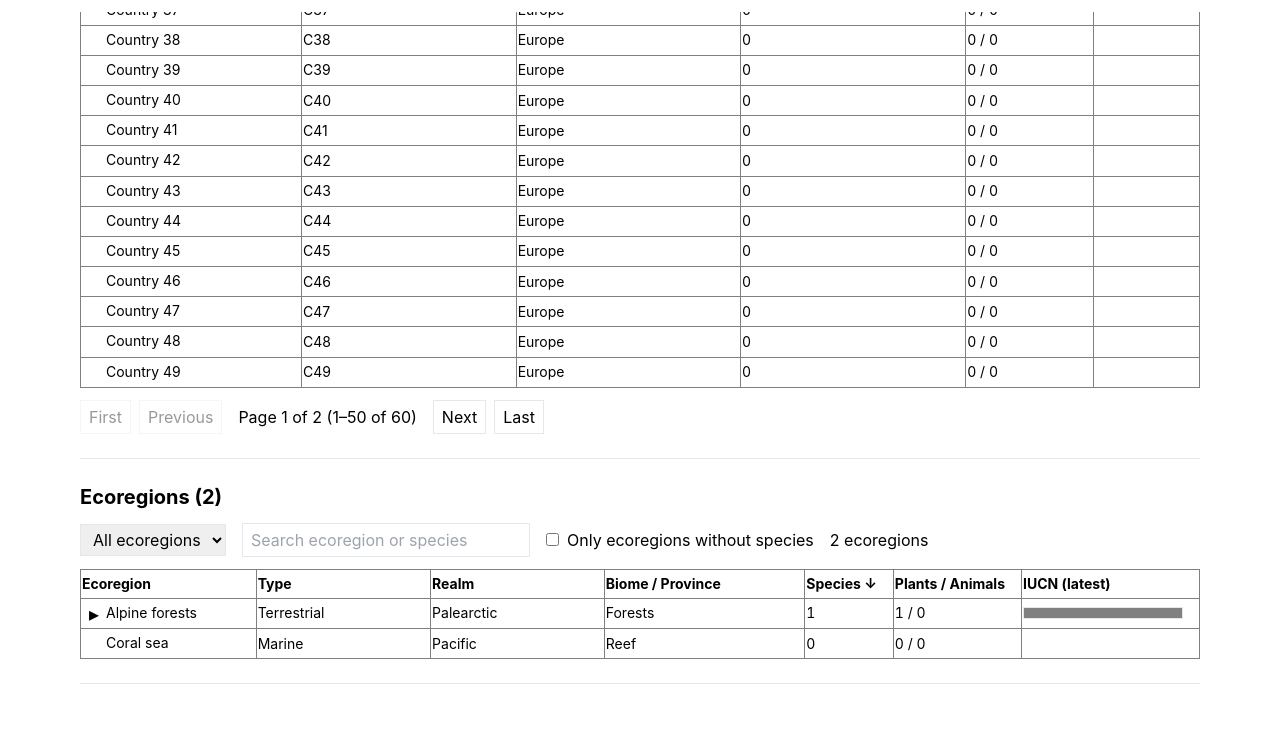
Test: long statistics lists are paginated
The image size is (1280, 732).
(page scrolled)
Expected: the text "Country 55" is not shown
Expected: the text "Page 1 of 2 (1–50 of 60)" is shown, [230,405,425,429]
Click the button "Next" at (460, 417), box [433,400,486,434]
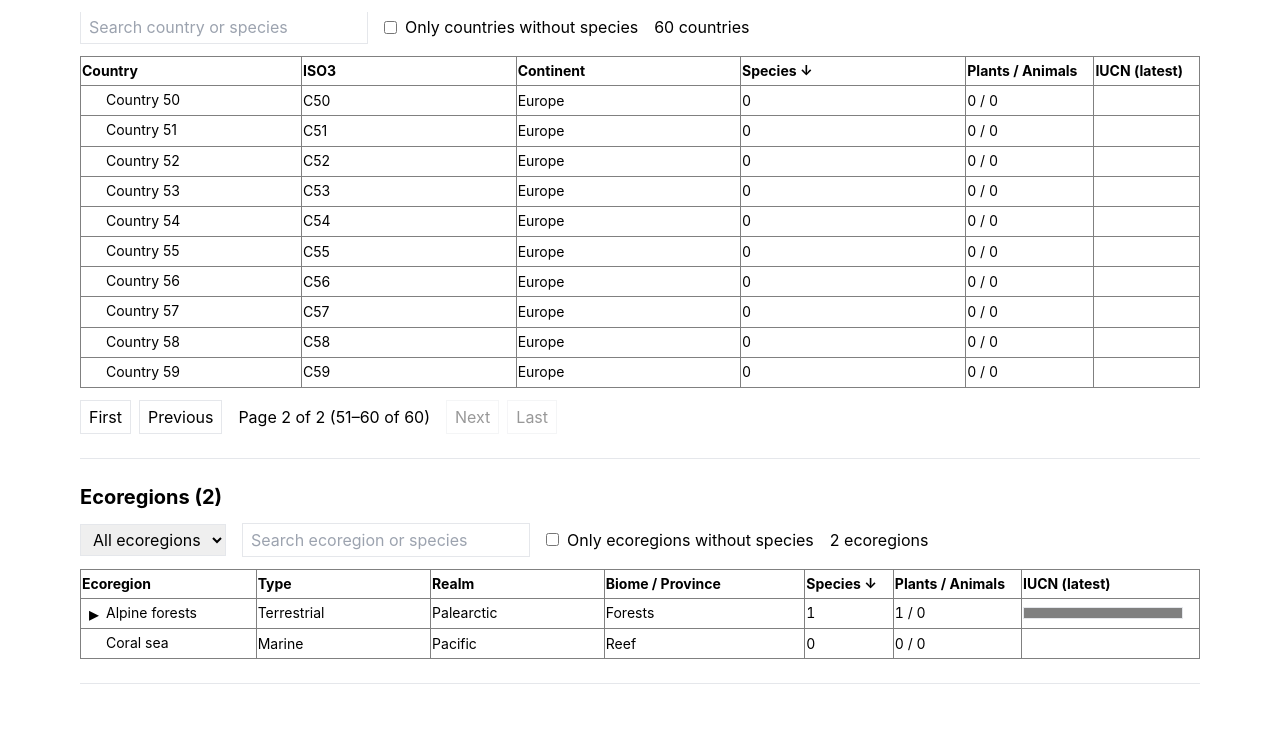
Expected: the text "Country 55" is shown, [80,236,302,267]
